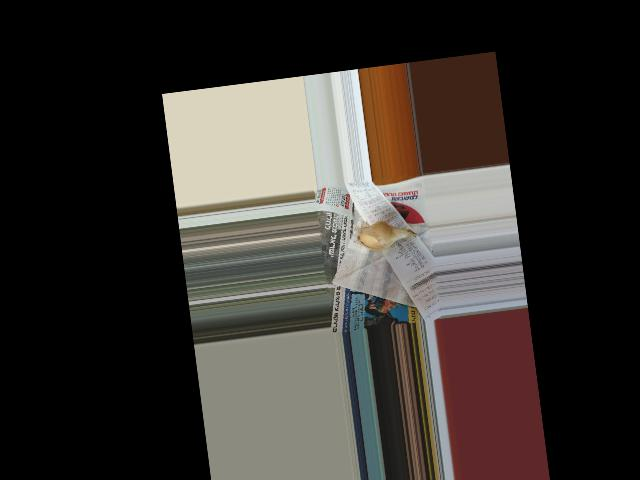onion: (353, 219, 402, 256)
